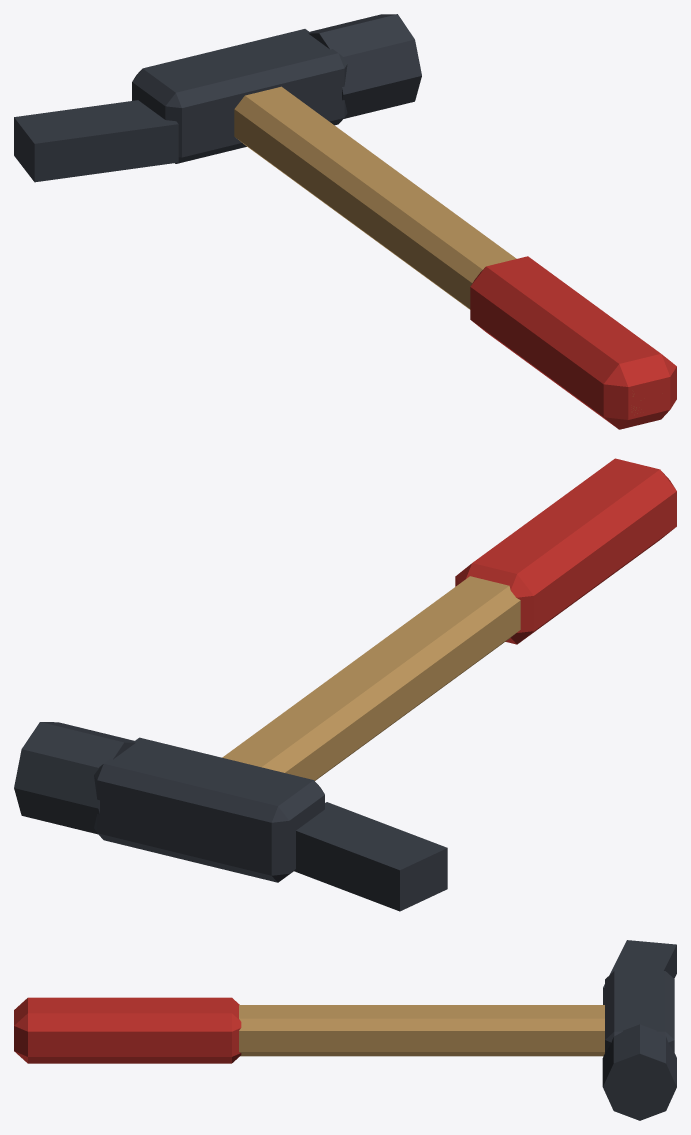
Rendered from Hammer.fbx.
3 views of the same model, one above another, from view 1: azimuth 30°, elevation 25°; view 2: azimuth 150°, elevation 25°; view 3: azimuth 270°, elevation 25° (orthographic). The views are drawn at different scales.
Visible parts, largest first — view 1: Hammer; view 2: Hammer; view 3: Hammer.
Boxes of the visible parts, x1,y1,x2,y2 form: Hammer: [14, 14, 676, 429]; Hammer: [14, 458, 676, 911]; Hammer: [14, 940, 676, 1120].
Size of the model in its own units: 0.1417 by 0.032 by 0.286.
Materials: 1 (1 with a texture image).
